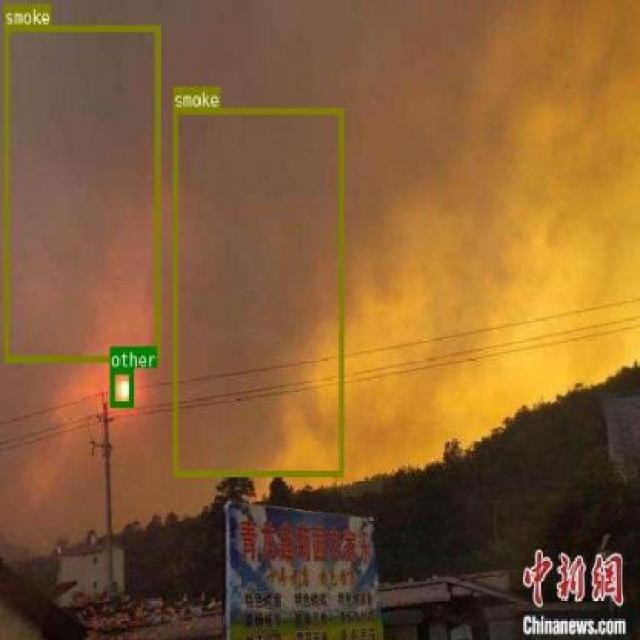smoke: (172, 108, 343, 476), (3, 25, 159, 361)
